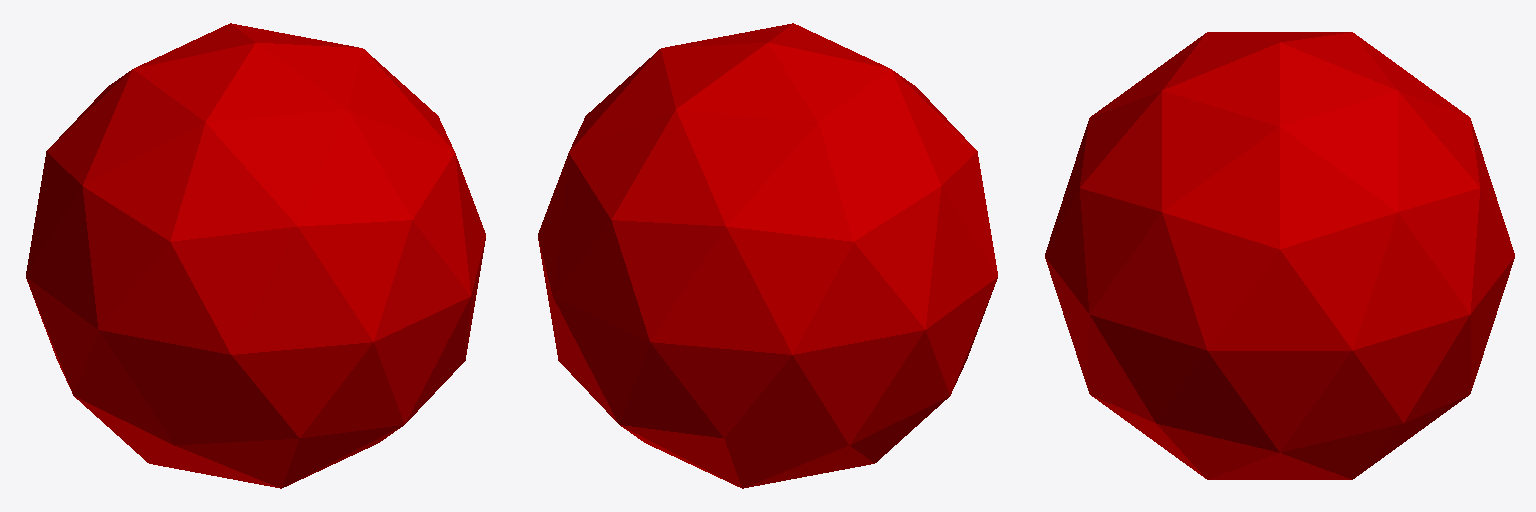
The model's file is ico.obj.
3 renders of one model, left to right at view 1: azimuth 30°, elevation 25°; view 2: azimuth 150°, elevation 25°; view 3: azimuth 270°, elevation 25°, orthographic.
Visible parts, largest first — view 1: Icosphere; view 2: Icosphere; view 3: Icosphere.
Part boxes in pixels (bbox=[...]): Icosphere: bbox=[26, 23, 485, 488]; Icosphere: bbox=[538, 23, 997, 488]; Icosphere: bbox=[1045, 32, 1514, 479].
Size of the model in its own units: 1.9 by 2 by 2.